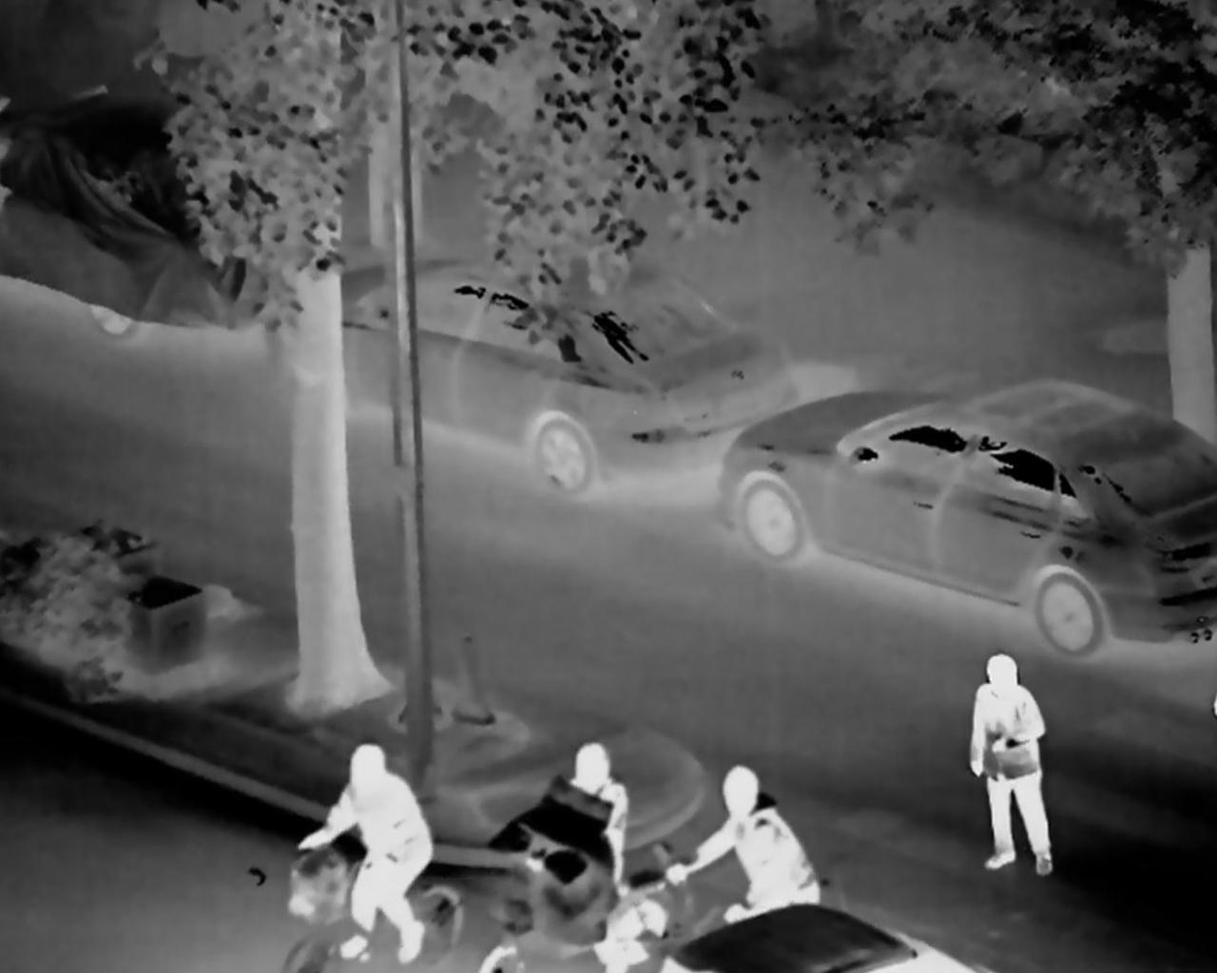person: (290, 739, 442, 965), (666, 758, 825, 937), (961, 652, 1071, 884), (540, 735, 653, 920)
